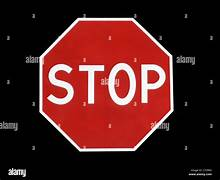stop: (39, 17, 174, 153)
